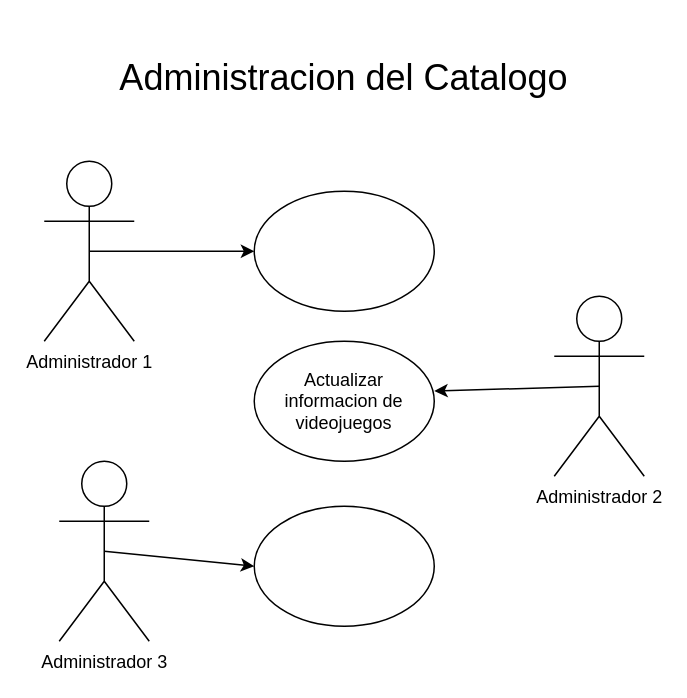
This 687x698 diagram has some shape labels left out. The shapes that lost their labels are listed below. From the top down, each one's centre as x and y in pixels, then its label:
the point at 343,250: Agregar nuevo videojuego al catalogo
the point at 343,565: Eliminar un videojuego
